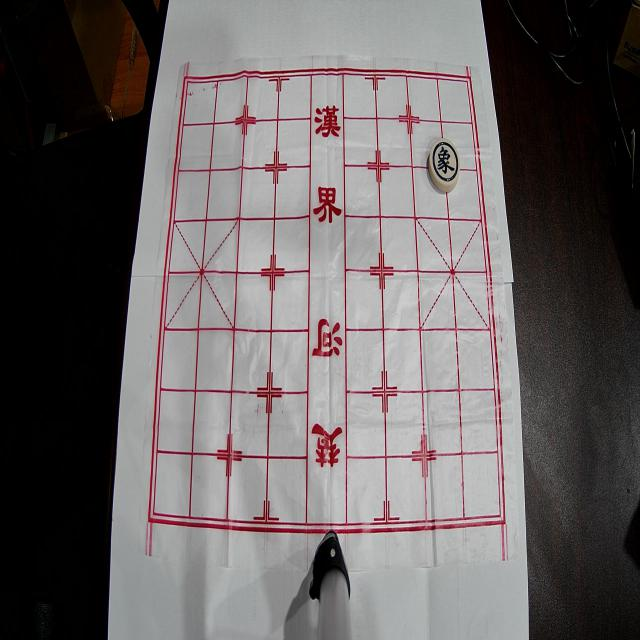black-elephant: (428, 138, 461, 192)
